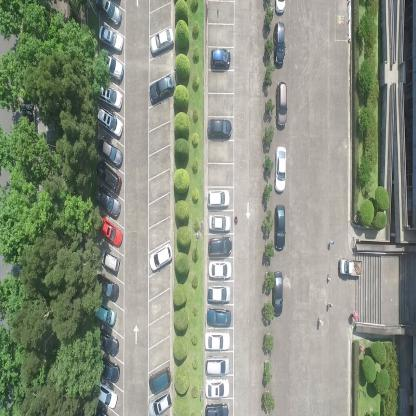car: (95, 158, 122, 194), (92, 187, 121, 219), (96, 106, 123, 139), (96, 135, 122, 168), (149, 73, 175, 105), (96, 215, 122, 247), (98, 51, 124, 81), (94, 328, 120, 358), (95, 272, 120, 303), (96, 83, 124, 110), (149, 27, 174, 57), (148, 242, 173, 272), (147, 364, 172, 394), (146, 389, 174, 415), (97, 0, 123, 28), (98, 24, 123, 53), (96, 380, 118, 410), (99, 245, 121, 274), (275, 145, 287, 195), (94, 302, 117, 328), (98, 355, 120, 382), (274, 203, 286, 252), (273, 20, 285, 68), (272, 269, 284, 317), (339, 255, 362, 280), (206, 118, 232, 140), (276, 78, 287, 128), (206, 284, 232, 305), (208, 235, 232, 257), (204, 331, 230, 351), (204, 355, 230, 375), (204, 378, 230, 398), (206, 307, 231, 327), (210, 47, 231, 70), (207, 188, 231, 208), (208, 261, 232, 280), (209, 213, 232, 232), (205, 403, 229, 415), (273, 0, 286, 15)
